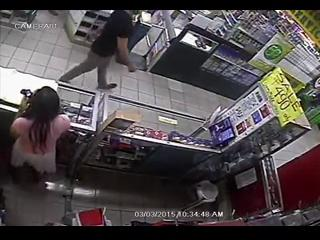Normal: (8, 86, 72, 186), (59, 11, 138, 90)
